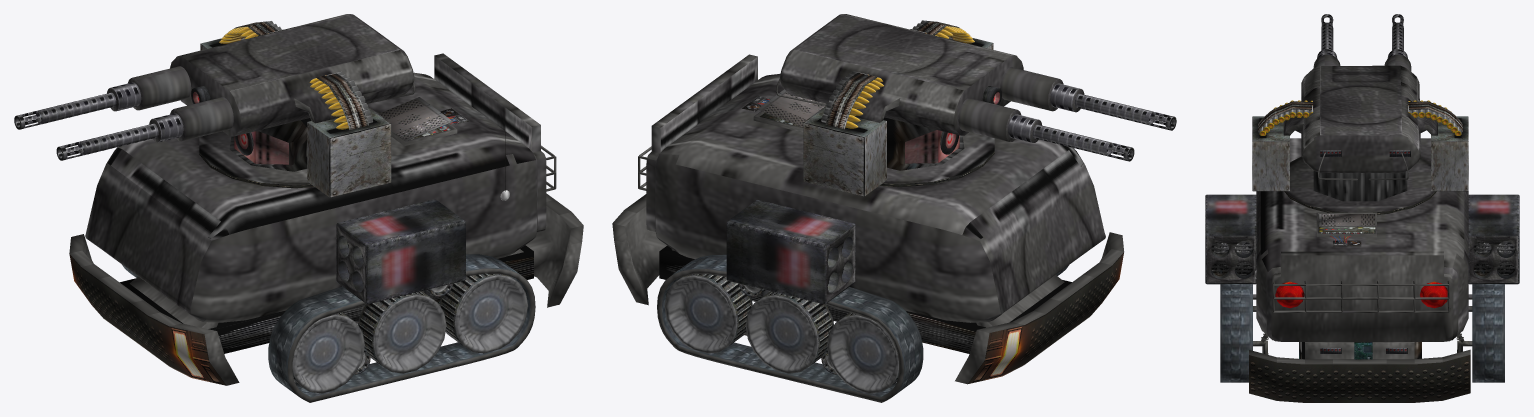
Rendered from GunRobot.fbx.
3 views of the same model, side by side, from view 1: azimuth 30°, elevation 25°; view 2: azimuth 150°, elevation 25°; view 3: azimuth 270°, elevation 25° (orthographic). The views are drawn at different scales.
Visible parts, largest first — view 1: Robot body (www.3dislands.blogspot.com), Hed (www.3dislands.blogspot.com); view 2: Robot body (www.3dislands.blogspot.com), Hed (www.3dislands.blogspot.com); view 3: Robot body (www.3dislands.blogspot.com), Hed (www.3dislands.blogspot.com).
Boxes of the visible parts, x1,y1,x2,y2 form: Robot body (www.3dislands.blogspot.com): (69,53,583,402); Hed (www.3dislands.blogspot.com): (14,14,415,197); Robot body (www.3dislands.blogspot.com): (612,54,1124,402); Hed (www.3dislands.blogspot.com): (776,14,1176,196); Robot body (www.3dislands.blogspot.com): (1205,138,1519,402); Hed (www.3dislands.blogspot.com): (1252,14,1468,201).
Size of the model in its own units: 463 by 242 by 303.
1 material, 1 textured.
